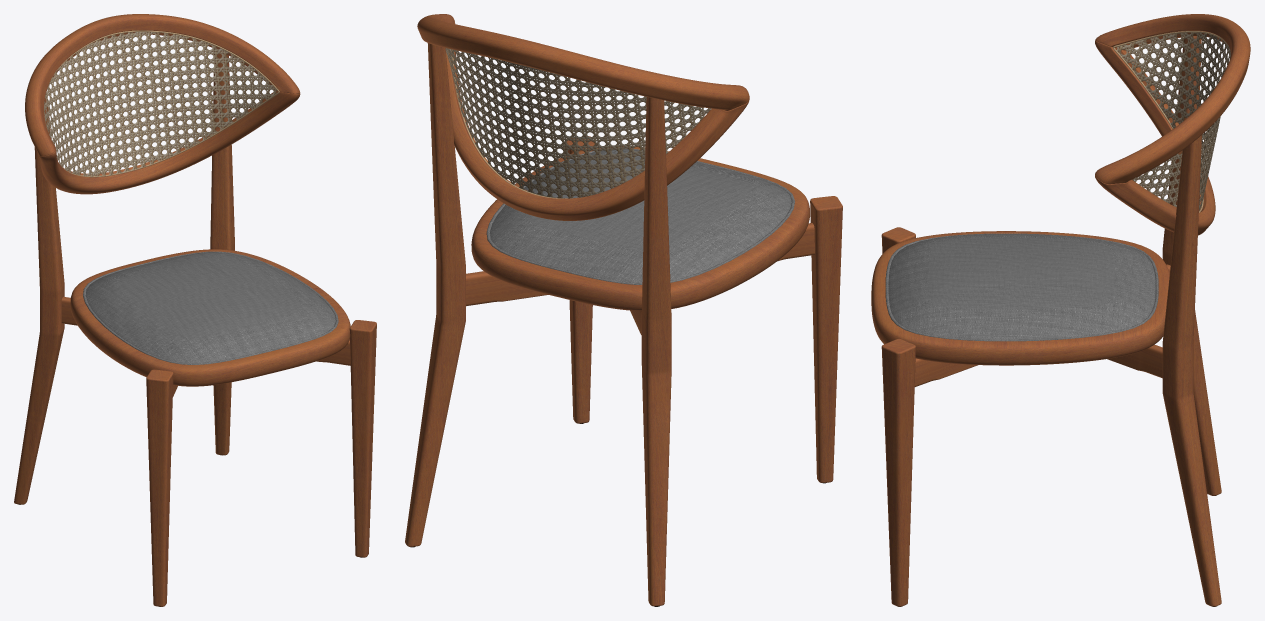
The model's file is maracaja-cadeira.glb.
3 views of the same model, side by side, from view 1: azimuth 30°, elevation 25°; view 2: azimuth 150°, elevation 25°; view 3: azimuth 270°, elevation 25° (orthographic). The views are drawn at different scales.
Visible parts, largest first — view 1: Geom3D (×4); view 2: Geom3D (×3); view 3: Geom3D (×3).
Part boxes in pixels (x1,y1,x2,y2): Geom3D (×4): [14, 14, 376, 606]; Geom3D (×3): [405, 14, 842, 606]; Geom3D (×3): [871, 14, 1250, 606].
Size of the model in its own units: 0.5035 by 0.8383 by 0.5666.
Materials: 5 (3 with a texture image).
